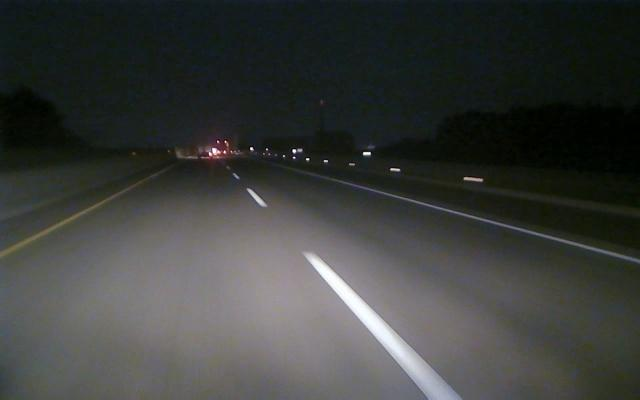lane: (246, 183, 463, 398), (330, 178, 639, 264), (2, 198, 111, 258)
